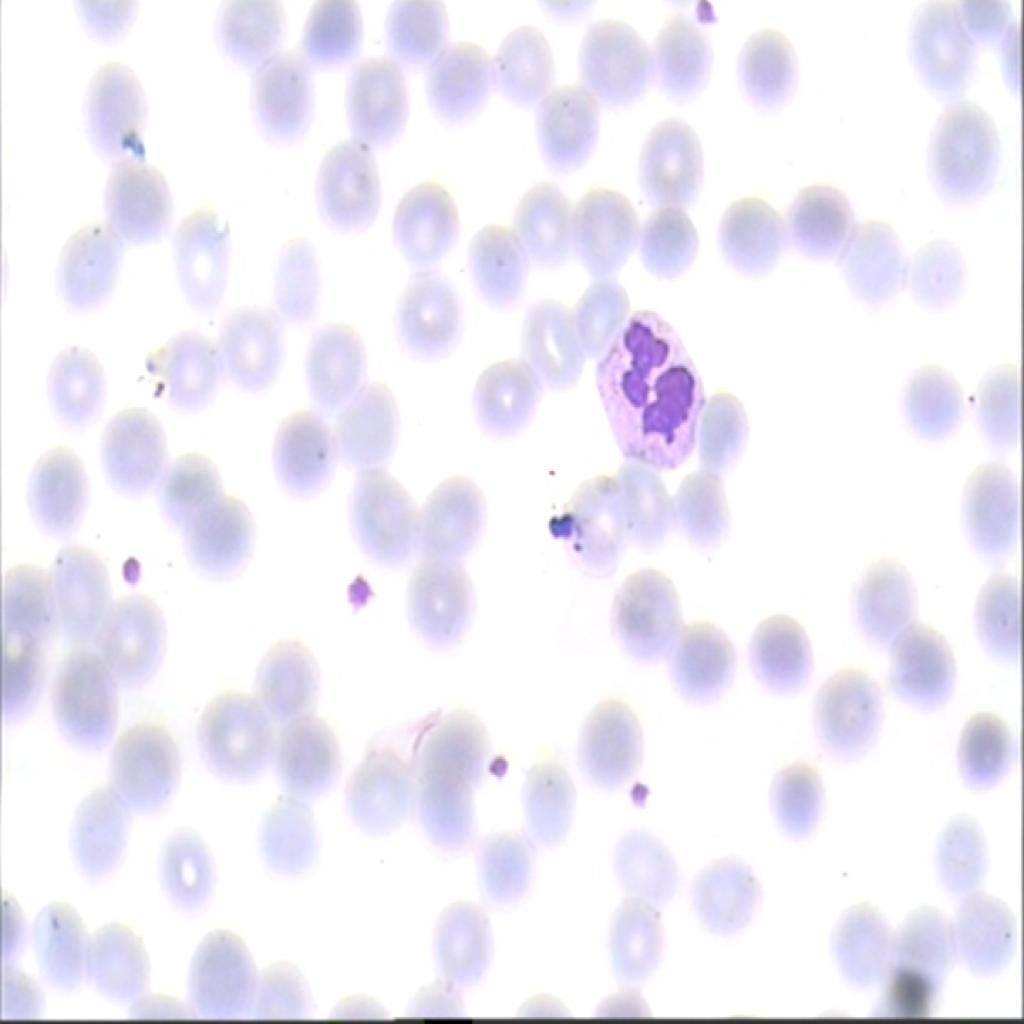Neutrofil: (598, 295, 712, 484)
Platelet: (539, 489, 590, 567), (626, 770, 664, 823), (110, 546, 144, 594), (344, 564, 373, 618), (691, 0, 724, 34), (485, 745, 505, 789), (120, 123, 140, 160)
